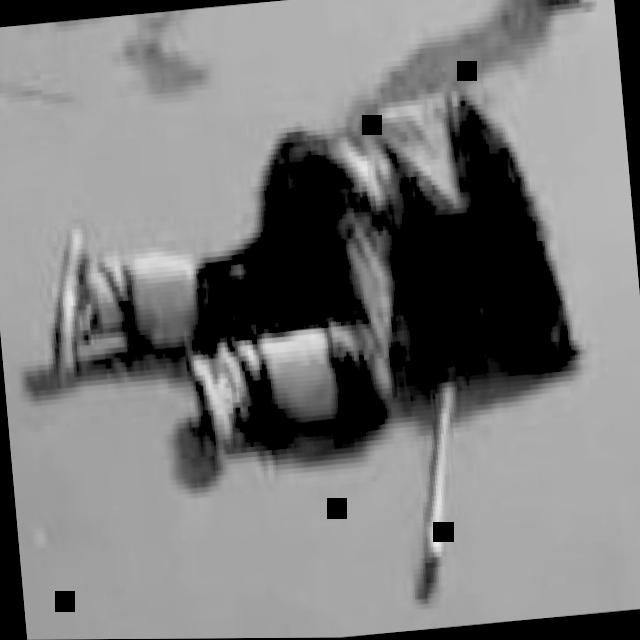Fall-Detected: (0, 16, 590, 504)
